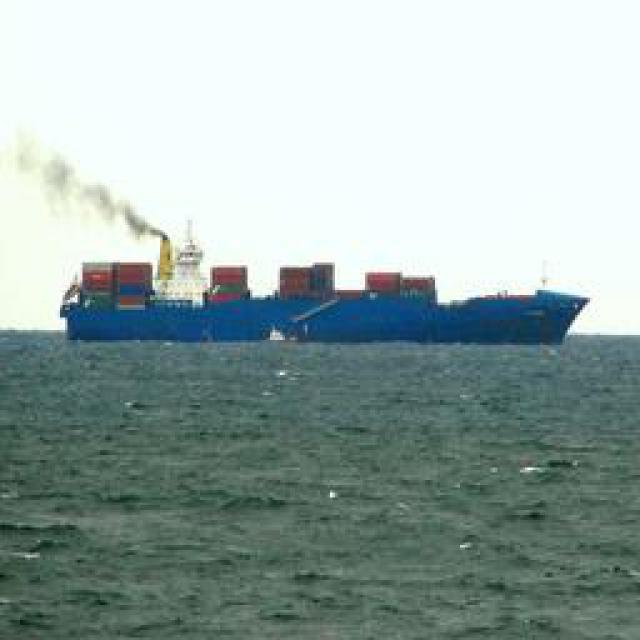Ship: (68, 260, 593, 345)
